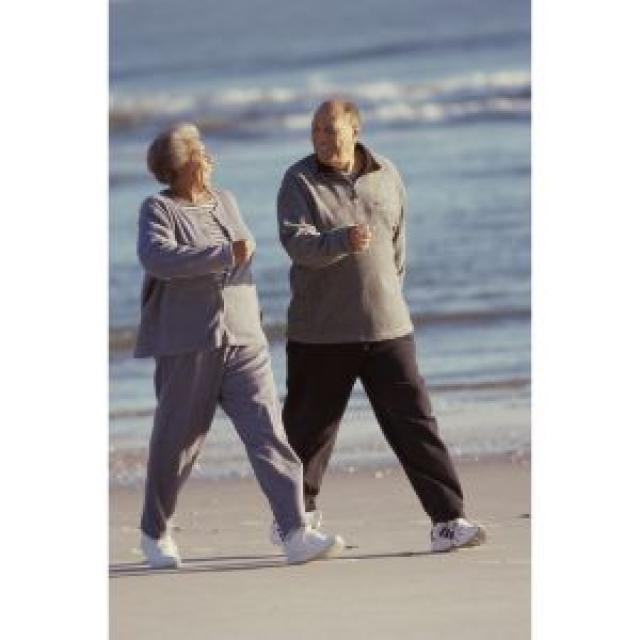nonfall: (284, 73, 484, 540), (124, 129, 309, 583)
